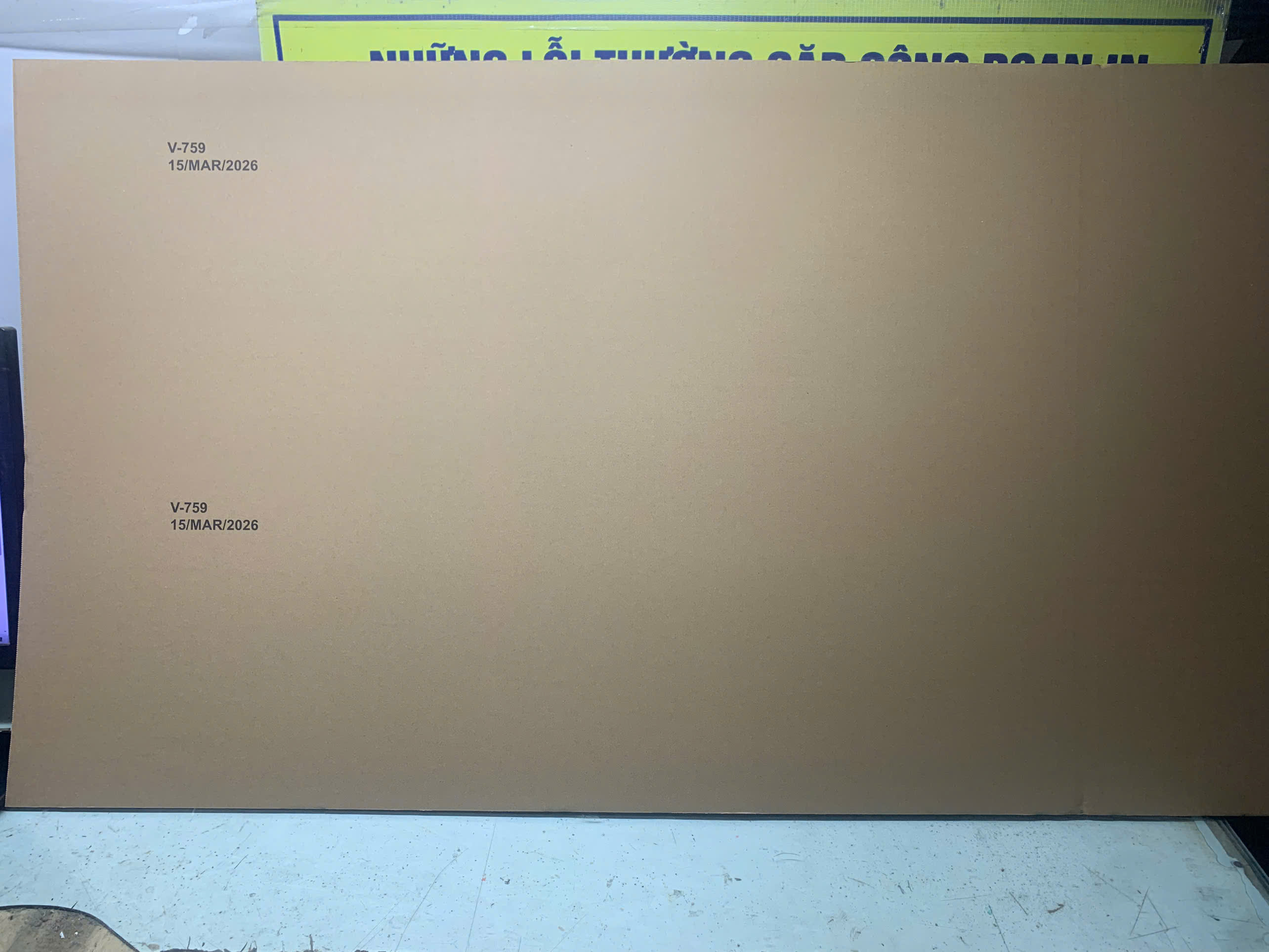box: (9, 56, 1269, 817)
